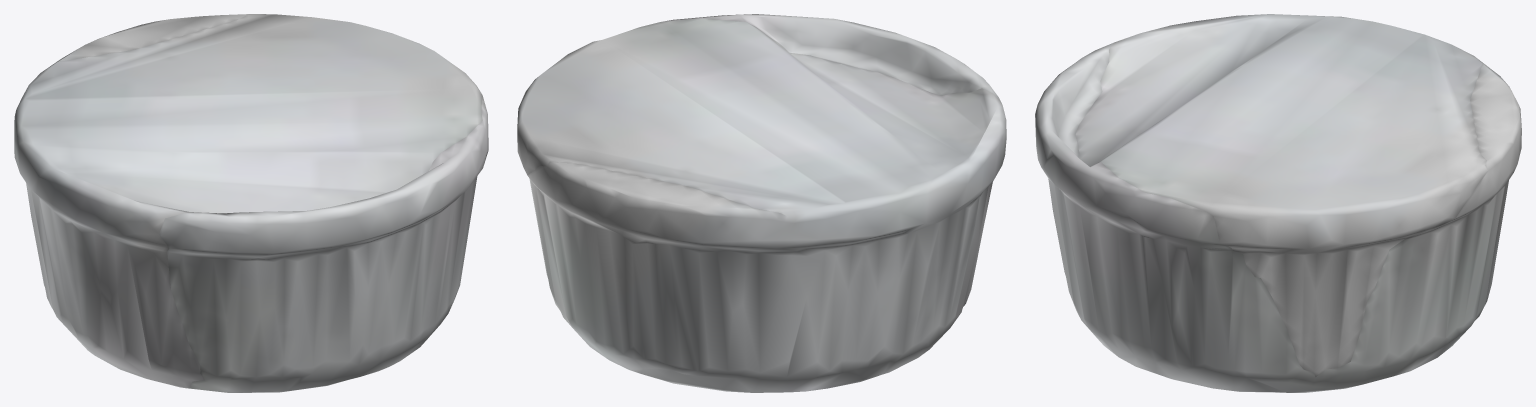
File: Threshold_Ramekin_White_Porcelain-medium.glb
The picture shows the model from 3 angles, left to right: view 1: azimuth 30°, elevation 25°; view 2: azimuth 150°, elevation 25°; view 3: azimuth 270°, elevation 25°; orthographic projection.
Parts seen in each view (by area): view 1: Threshold_Ramekin_White_Porcelain; view 2: Threshold_Ramekin_White_Porcelain; view 3: Threshold_Ramekin_White_Porcelain.
Boxes of the visible parts, x1,y1,x2,y2 form: Threshold_Ramekin_White_Porcelain: (14,14,488,392); Threshold_Ramekin_White_Porcelain: (517,14,1006,392); Threshold_Ramekin_White_Porcelain: (1035,14,1521,392).
Bounding box in the file's own units: 0.1117 × 0.0527 × 0.1115.
Materials: 1 (1 with a texture image).
